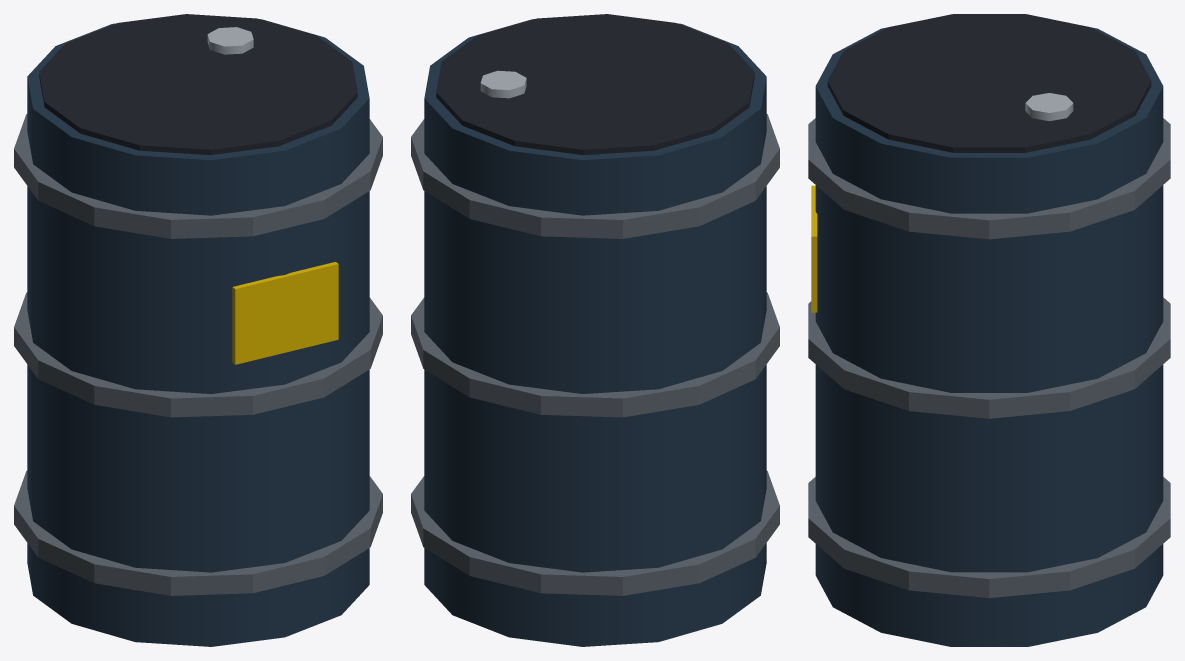
File: barrel_steel.glb
3 views of the same model, side by side, from view 1: azimuth 30°, elevation 25°; view 2: azimuth 150°, elevation 25°; view 3: azimuth 270°, elevation 25° (orthographic).
Visible parts, largest first — view 1: barrel_steel; view 2: barrel_steel; view 3: barrel_steel.
Part boxes in pixels (x1,y1,x2,y2): barrel_steel: (14,14,382,646); barrel_steel: (411,14,779,646); barrel_steel: (808,14,1170,646).
Size of the model in its own units: 0.62 by 0.925 by 0.6045.
